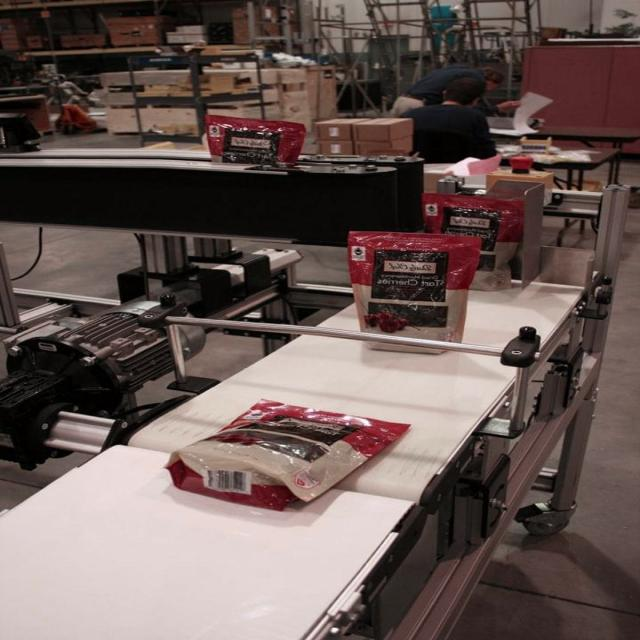food: (162, 398, 412, 512), (344, 229, 482, 355), (418, 181, 542, 292), (200, 113, 306, 167)
